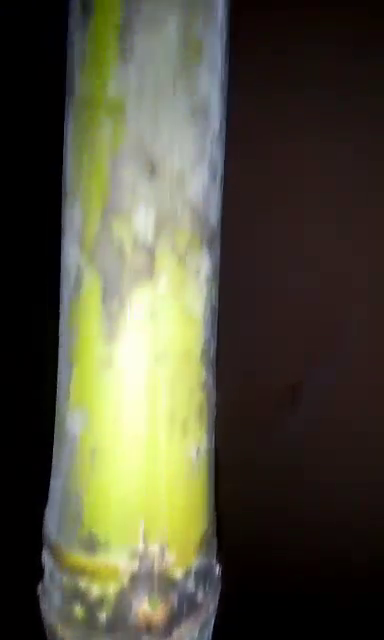cane eye: (123, 579, 181, 638)
